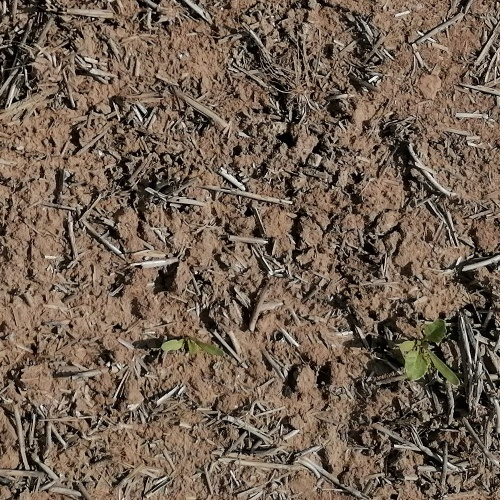beet: (399, 319, 460, 386), (159, 331, 226, 362)
